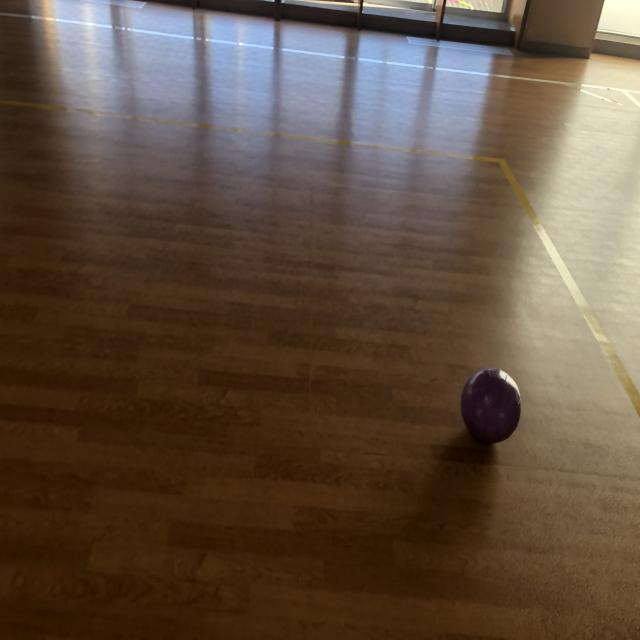purple_ball: (461, 366, 520, 444)
